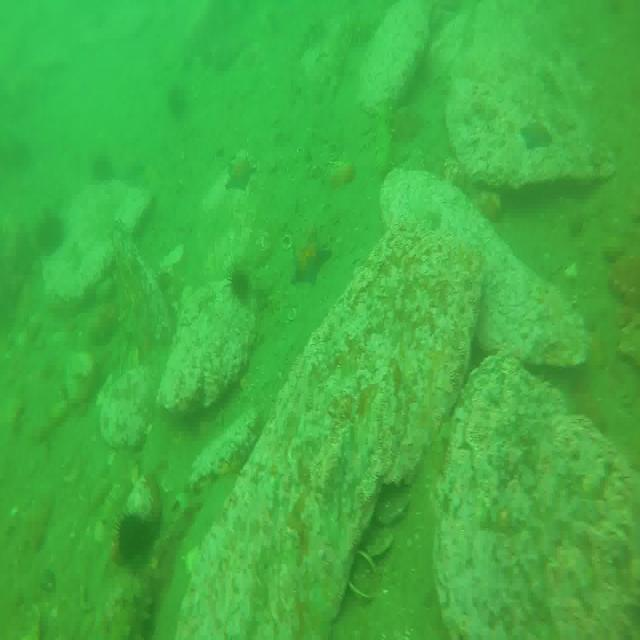echinus: (115, 513, 149, 563), (36, 213, 67, 249), (229, 266, 252, 302), (93, 157, 110, 175)
scallop: (344, 543, 383, 604)
starfish: (292, 233, 329, 288), (520, 120, 552, 150), (226, 162, 255, 192)
